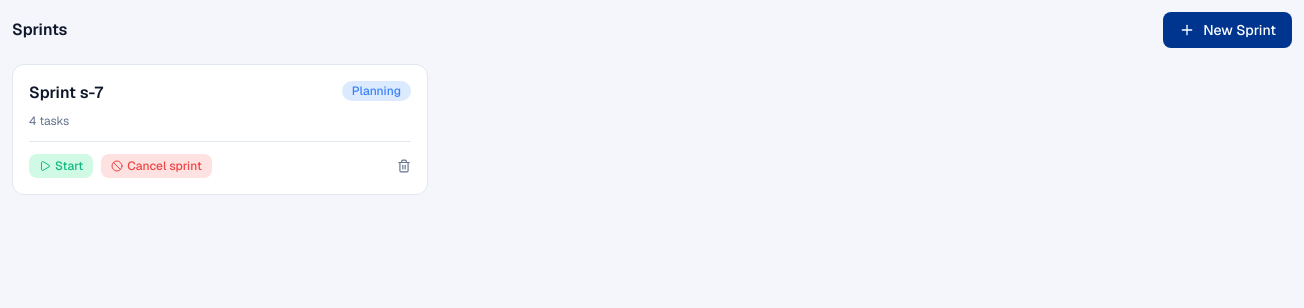
Test: cancelling is confirmed before it is sent › backing out of the confirmation cancels nothing
Click the button with test id "sprint-cancel-s-7" at point(157, 166), box 101,154 -> 212,178
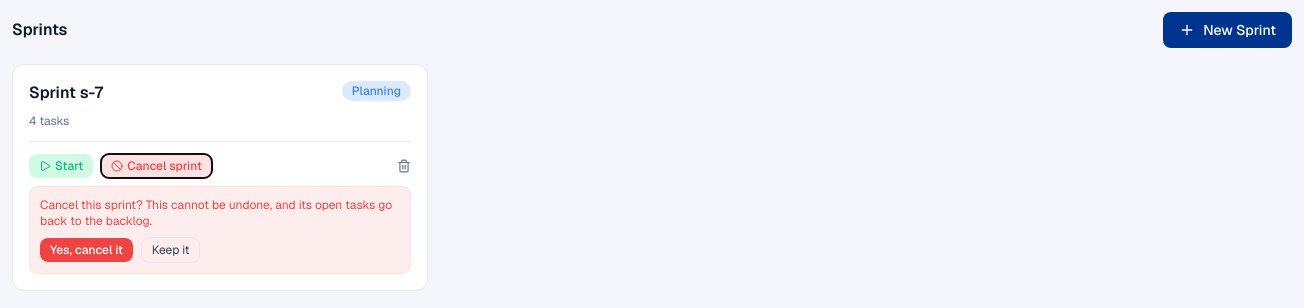
Click the button with test id "sprint-cancel-no-s-7" at point(171, 250), box 141,237 -> 200,263
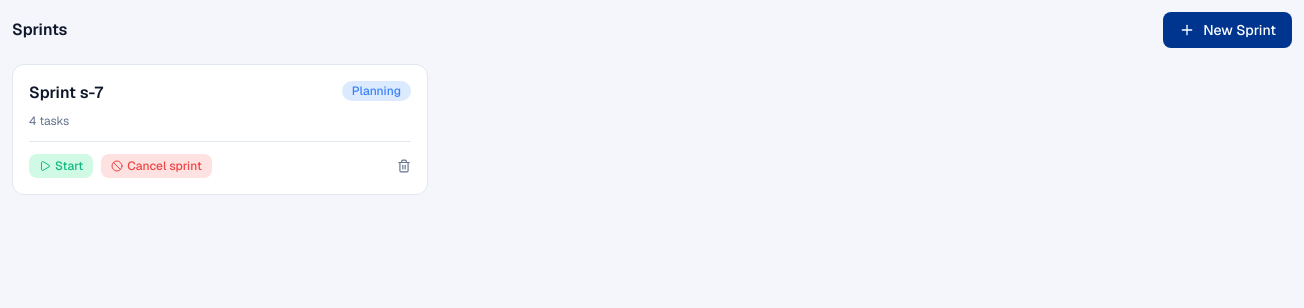
Now the button with test id "sprint-cancel-confirm-s-7" is gone
